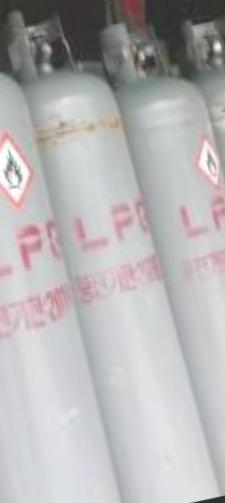cylinder: (1, 1, 225, 503)
